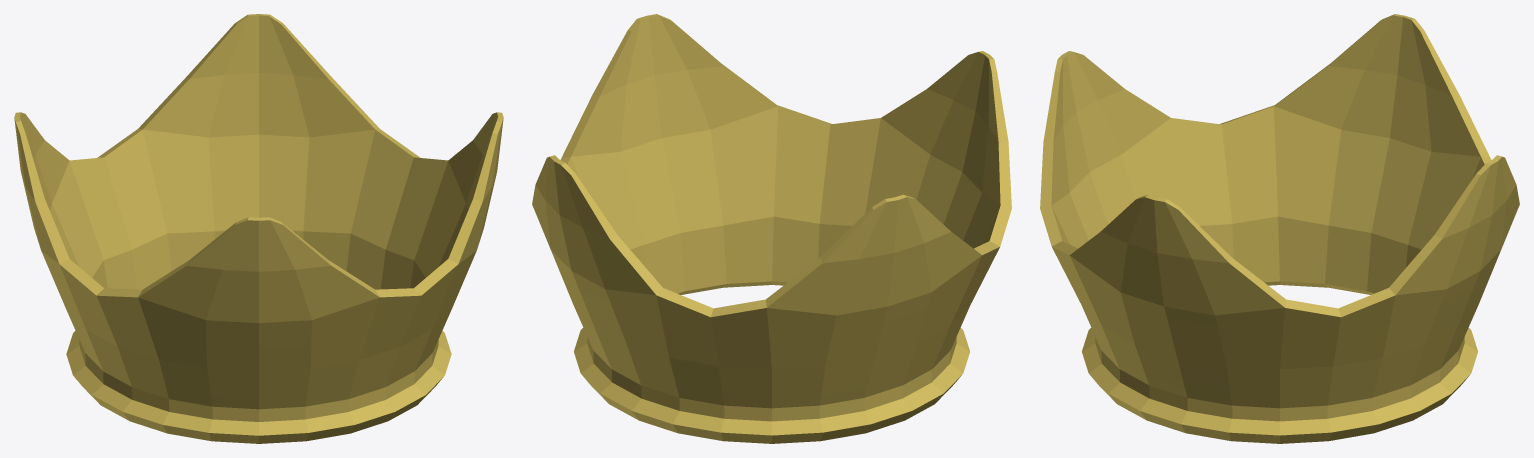
Rendered from crown.glb.
3 views of the same model, side by side, from view 1: azimuth 30°, elevation 25°; view 2: azimuth 150°, elevation 25°; view 3: azimuth 270°, elevation 25° (orthographic). The views are drawn at different scales.
Parts seen in each view (by area): view 1: Crown; view 2: Crown; view 3: Crown.
Boxes of the visible parts, x1,y1,x2,y2 form: Crown: (14, 14, 503, 443); Crown: (532, 14, 1011, 443); Crown: (1040, 14, 1519, 443).
Size of the model in its own units: 0.8315 by 0.492 by 0.8315.
